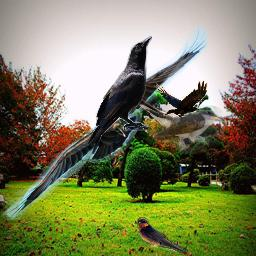Crow: (2, 25, 212, 220), (87, 36, 152, 154), (154, 80, 208, 117)
Cuckoo: (119, 85, 226, 154)
Swallow: (137, 217, 188, 253)
